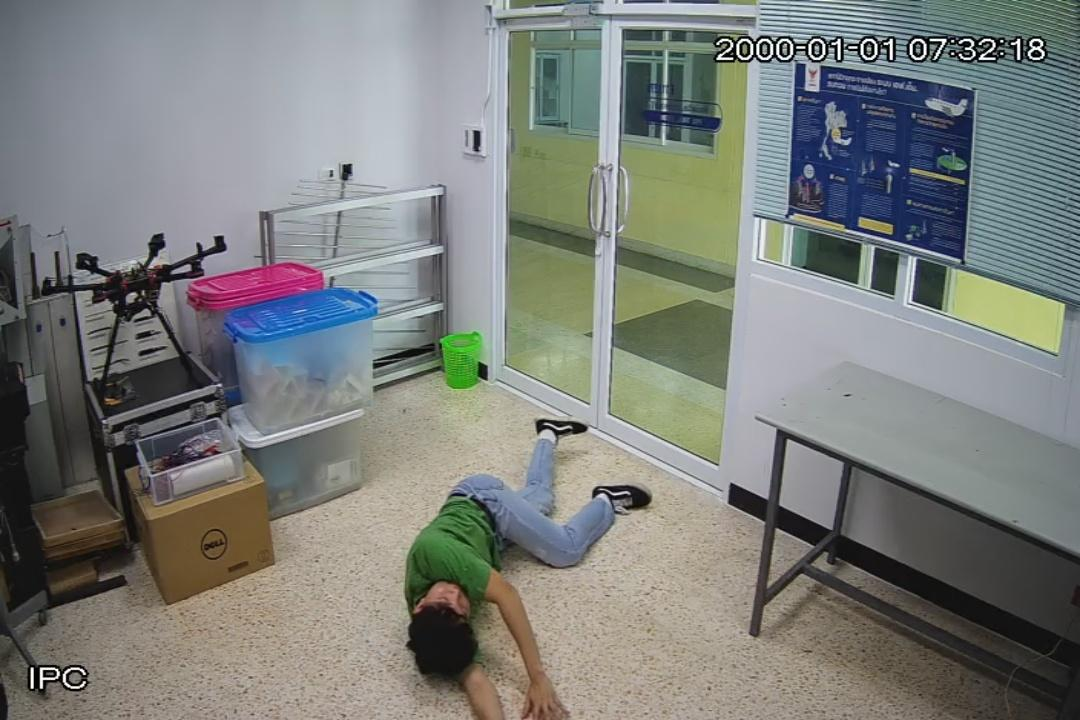fall: (397, 410, 654, 720)
